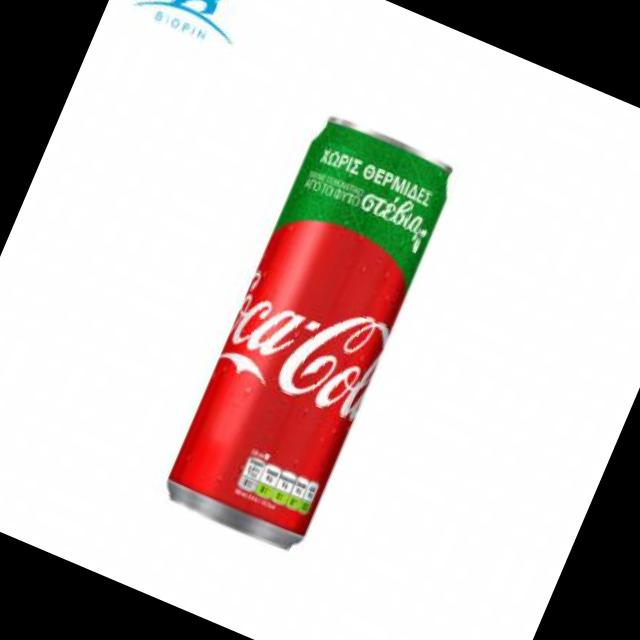Kaleng: (155, 105, 463, 556)
